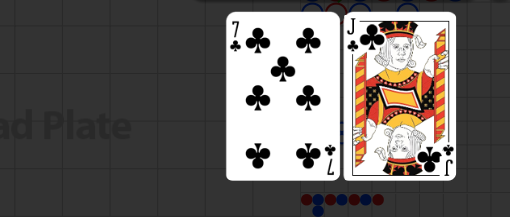7C: (229, 19, 243, 54)
JC: (441, 142, 456, 177)
